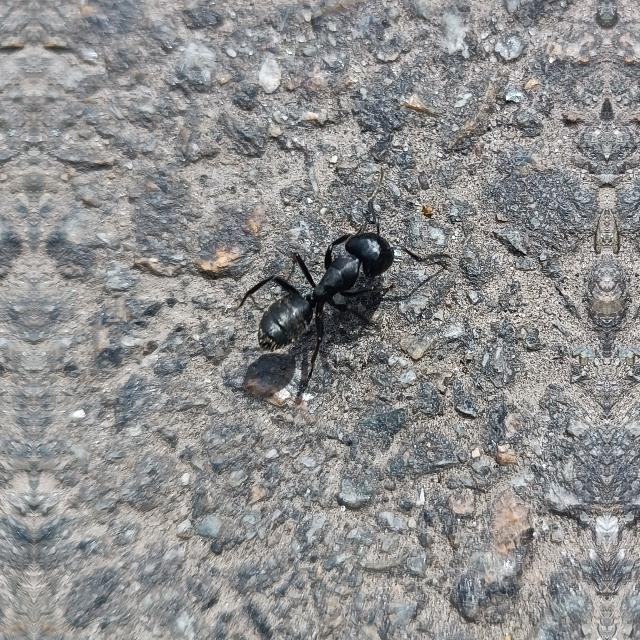Camponotus: (242, 190, 406, 390)
